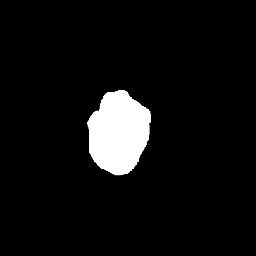mass: (89, 93, 149, 175)
